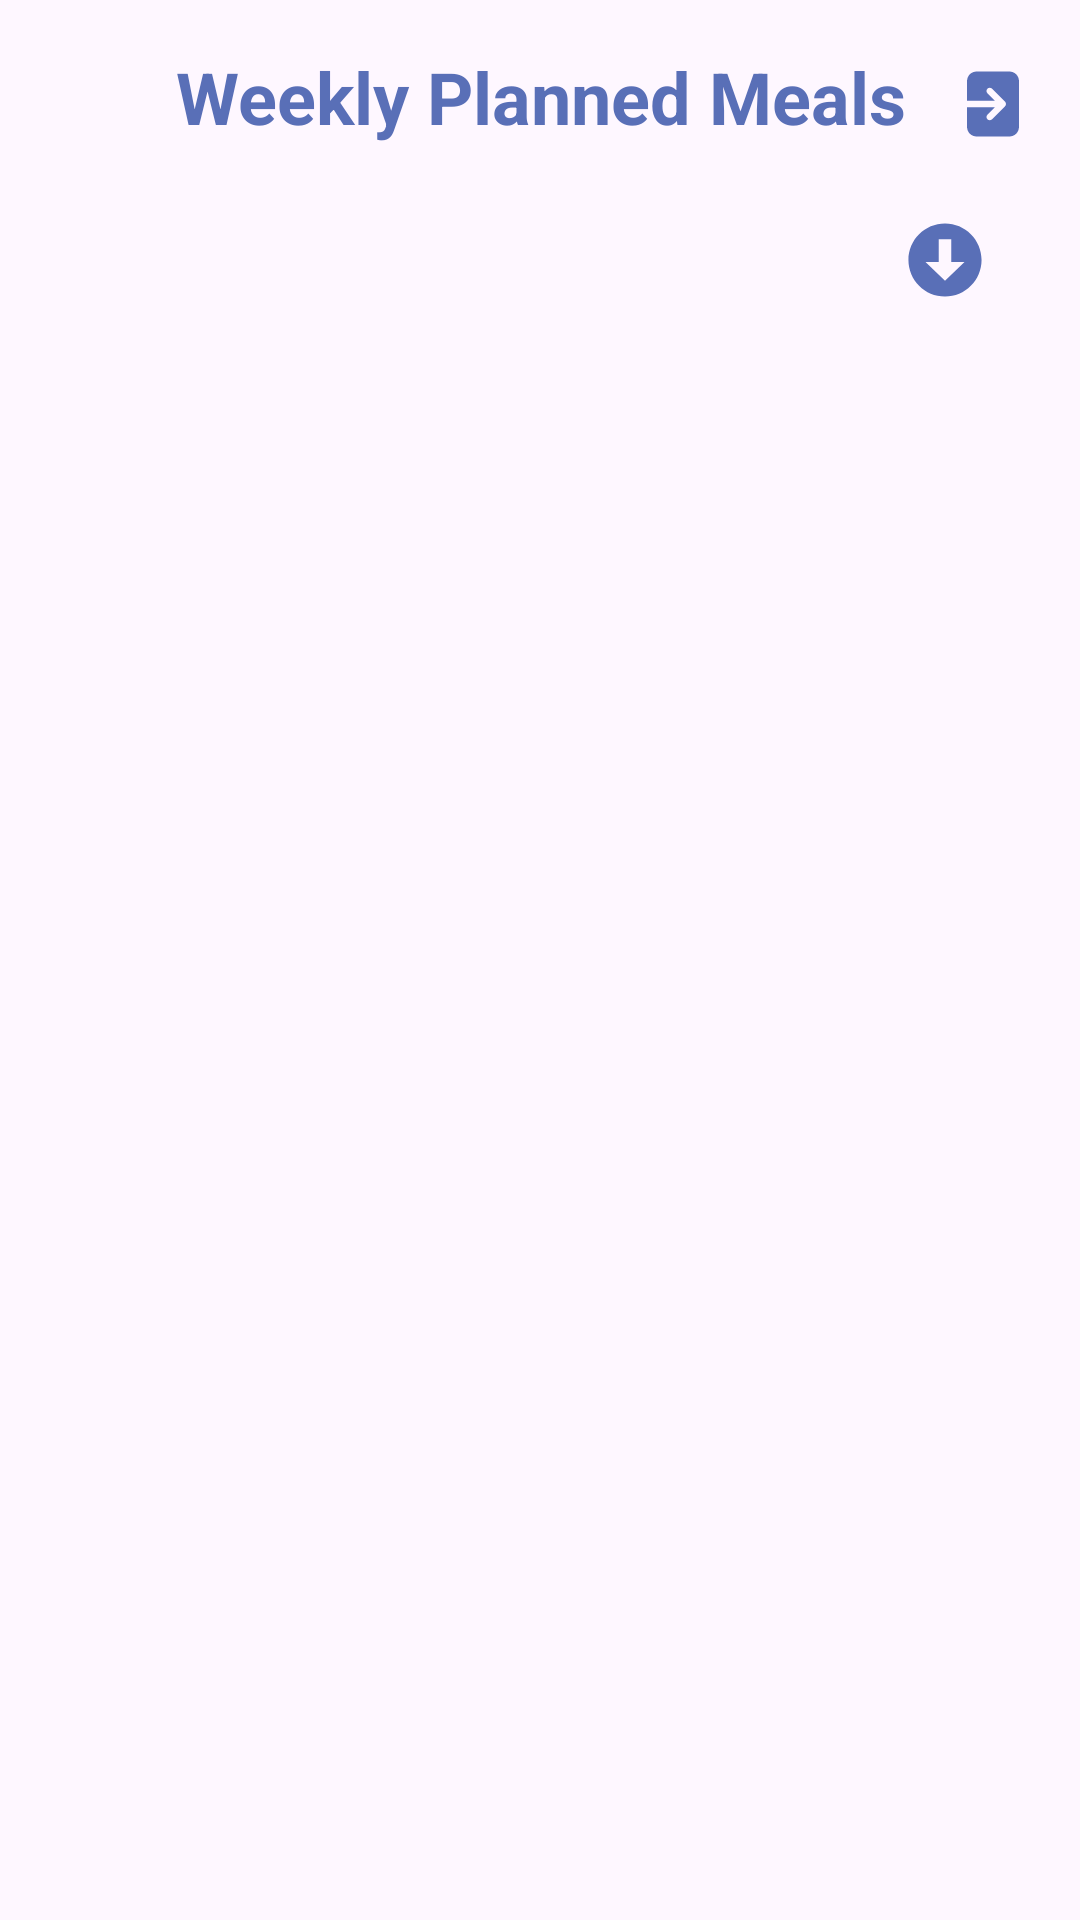

Screen size 1080 × 1920. Icon name, then its box in pixels as (x1, y1, x2, y2):
down arrow: (908, 223, 982, 297)
signout: (967, 71, 1019, 137)
